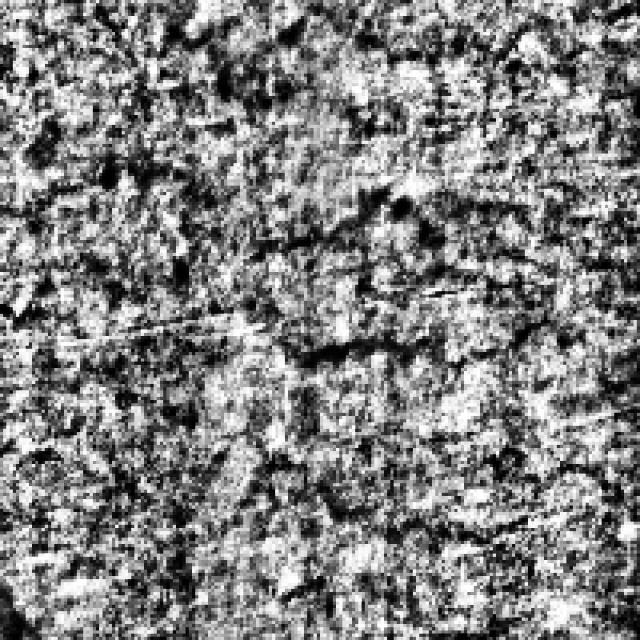Pitted_Surface: (189, 179, 637, 378), (6, 336, 237, 611), (151, 3, 564, 144), (6, 138, 272, 332)
